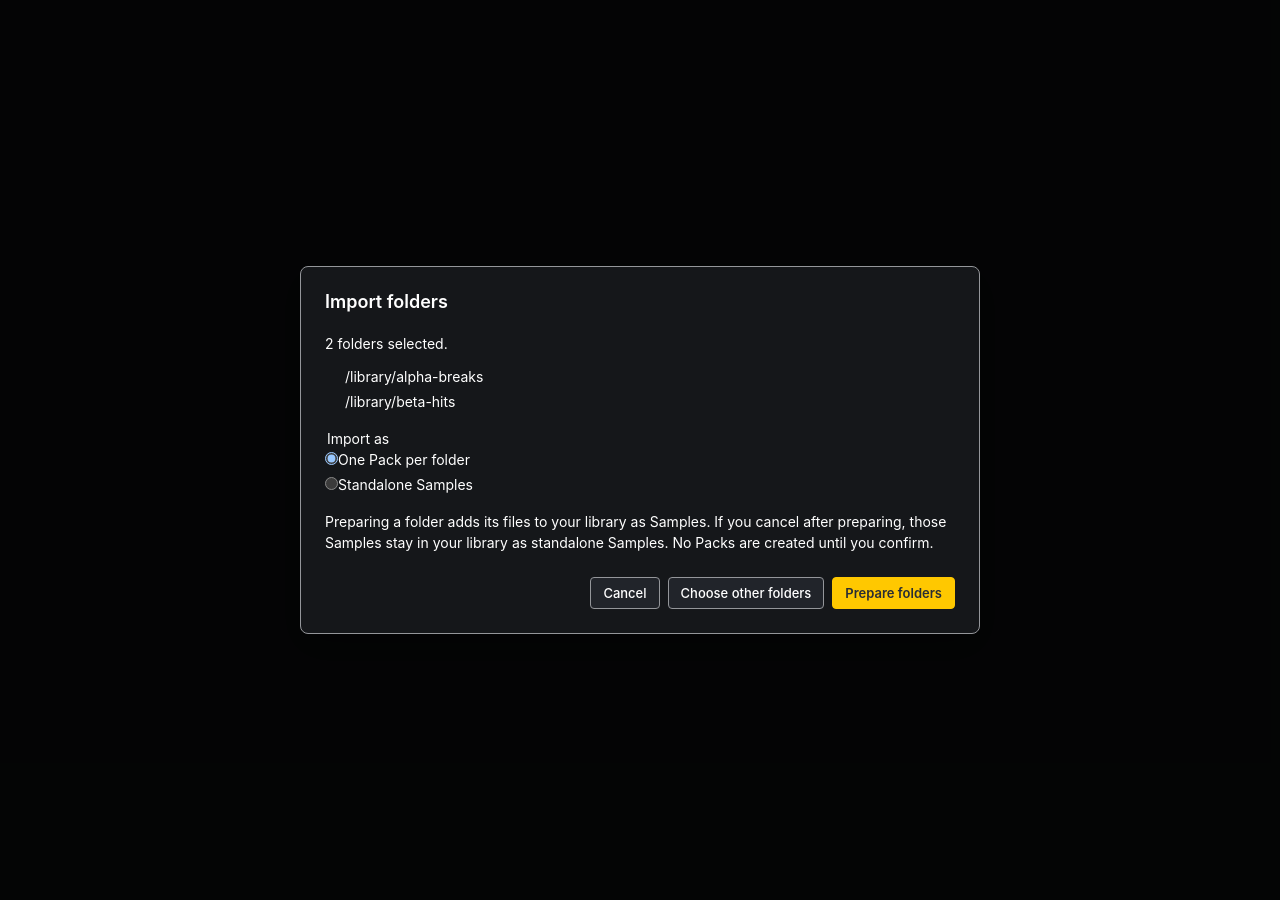
Test: reports a folder that cannot be prepared without hiding the other folders
The image size is (1280, 900).
Click the button "Prepare folders": x=894, y=593 [832,577,955,609]
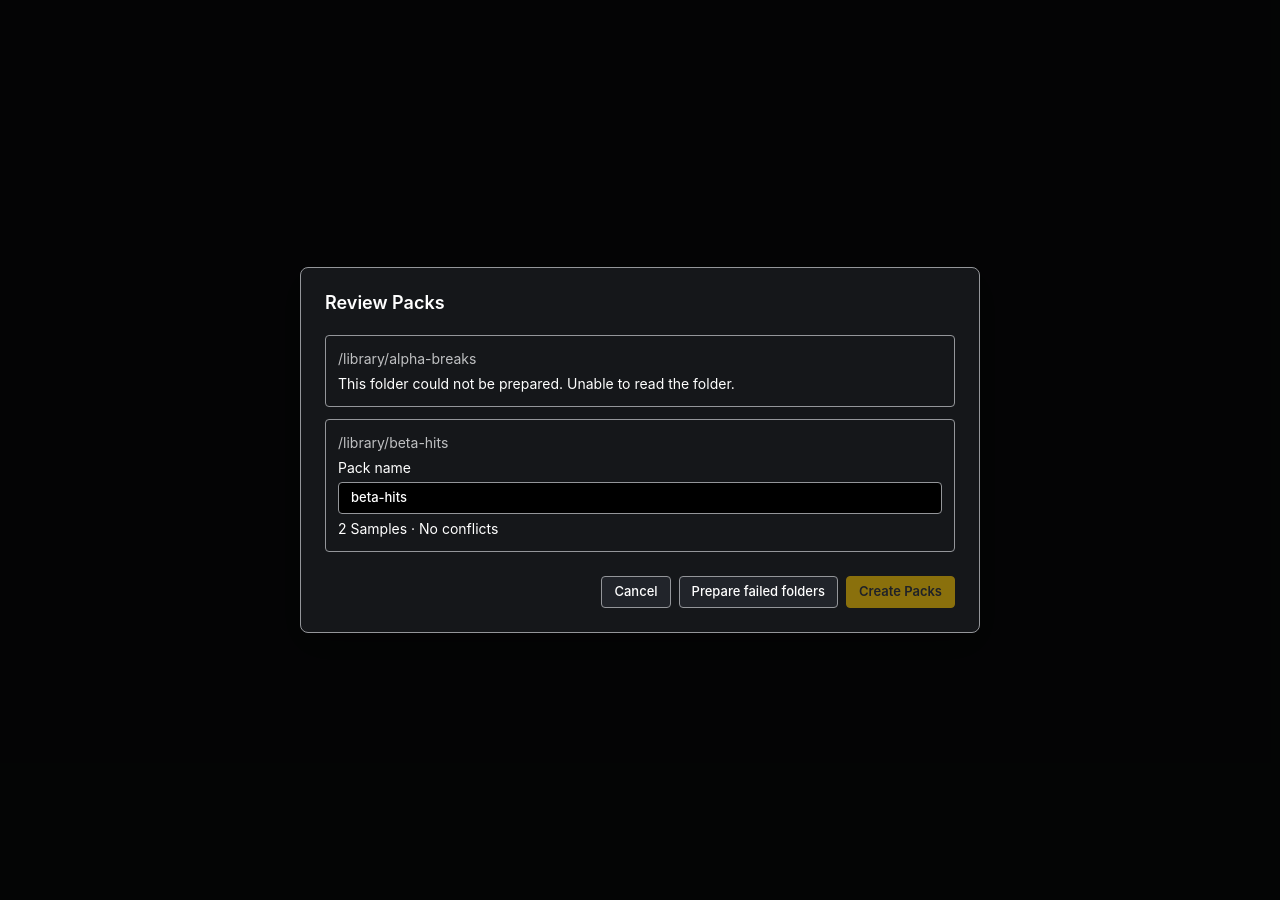
Check: the message shows "Unable to read the folder.", box [567,375,735,392]
Check: the field labelled "Pack name" holds "beta-hits", box [338,482,942,514]
Check: the element "/library/beta-hits" shows "2 Samples", box [325,419,955,552]
